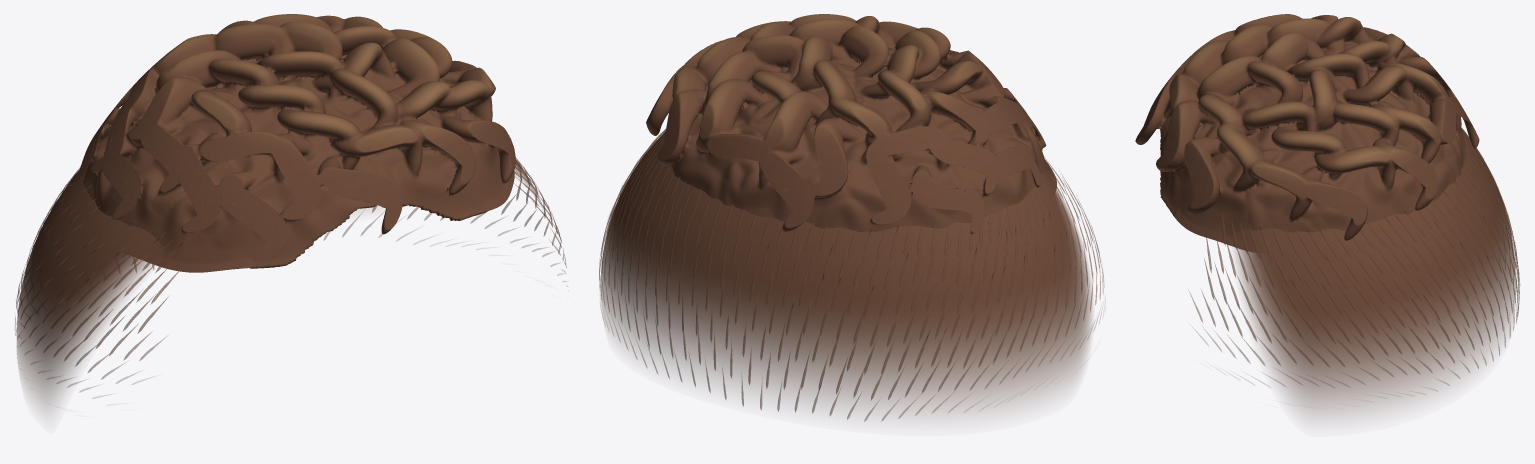
File: Masculine-curly-top-beanie259-hair-ombre.glb
The picture shows the model from 3 angles, left to right: view 1: azimuth 30°, elevation 25°; view 2: azimuth 150°, elevation 25°; view 3: azimuth 270°, elevation 25°; orthographic projection. The views are drawn at different scales.
Parts seen in each view (by area): view 1: 226 hair / Hair252 / sculpted curl groups, 226 hair / Hair258 / smooth side fade, 226 hair / Hair259 / directional fade marks214; view 2: 226 hair / Hair258 / smooth side fade, 226 hair / Hair252 / sculpted curl groups, 226 hair / Hair259 / directional fade marks214; view 3: 226 hair / Hair252 / sculpted curl groups, 226 hair / Hair258 / smooth side fade, 226 hair / Hair259 / directional fade marks214.
Part boxes in pixels (x1,y1,x2,y2): 226 hair / Hair252 / sculpted curl groups: [68, 14, 515, 272]; 226 hair / Hair258 / smooth side fade: [16, 160, 545, 411]; 226 hair / Hair259 / directional fade marks214: [15, 154, 567, 398]; 226 hair / Hair258 / smooth side fade: [601, 132, 1092, 415]; 226 hair / Hair252 / sculpted curl groups: [646, 14, 1056, 233]; 226 hair / Hair259 / directional fade marks214: [599, 128, 1105, 421]; 226 hair / Hair252 / sculpted curl groups: [1135, 14, 1479, 252]; 226 hair / Hair258 / smooth side fade: [1233, 129, 1515, 418]; 226 hair / Hair259 / directional fade marks214: [1189, 127, 1520, 394].
Size of the model in its own units: 0.9743 by 0.665 by 0.7505.
